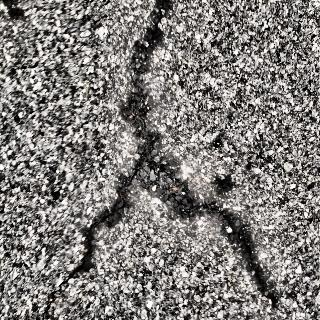crack: (170, 178, 270, 293), (49, 188, 140, 281), (124, 25, 170, 175)
